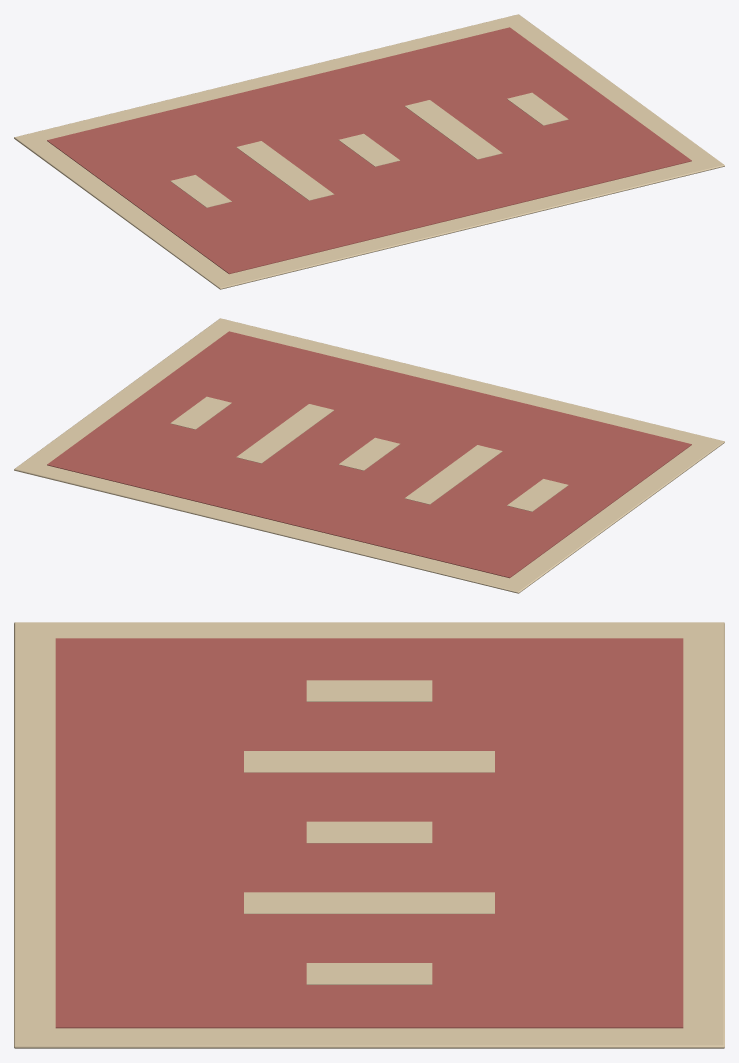
The model's file is dn_rug.fbx.
3 views of the same model, one above another, from view 1: azimuth 30°, elevation 25°; view 2: azimuth 150°, elevation 25°; view 3: azimuth 270°, elevation 25° (orthographic). The views are drawn at different scales.
Parts seen in each view (by area): view 1: RugField, RugBorder, RugMotif.001, RugMotif.003, RugMotif.004, RugMotif.002, RugMotif; view 2: RugField, RugBorder, RugMotif.001, RugMotif.003, RugMotif.004, RugMotif.002, RugMotif; view 3: RugField, RugBorder, RugMotif.001, RugMotif.003, RugMotif.002, RugMotif, RugMotif.004.
Part boxes in pixels (box(x1,y1,x2,y2)): RugField: box(47, 27, 691, 274); RugBorder: box(14, 14, 724, 289); RugMotif.001: box(236, 141, 334, 200); RugMotif.003: box(405, 100, 502, 159); RugMotif.004: box(507, 92, 568, 125); RugMotif.002: box(339, 133, 399, 166); RugMotif: box(170, 175, 231, 207); RugField: box(47, 331, 691, 578); RugBorder: box(14, 318, 724, 593); RugMotif.001: box(404, 445, 502, 504); RugMotif.003: box(236, 404, 333, 463); RugMotif.004: box(170, 396, 231, 429); RugMotif.002: box(339, 437, 399, 470); RugMotif: box(507, 479, 568, 511); RugField: box(55, 638, 683, 1028); RugBorder: box(14, 622, 724, 1048); RugMotif.001: box(244, 751, 494, 772); RugMotif.003: box(244, 892, 494, 913); RugMotif.002: box(306, 821, 432, 843); RugMotif: box(306, 680, 432, 701); RugMotif.004: box(306, 963, 432, 984).
Bounding box in the file's own units: 2.4 × 0.0125 × 1.7.
